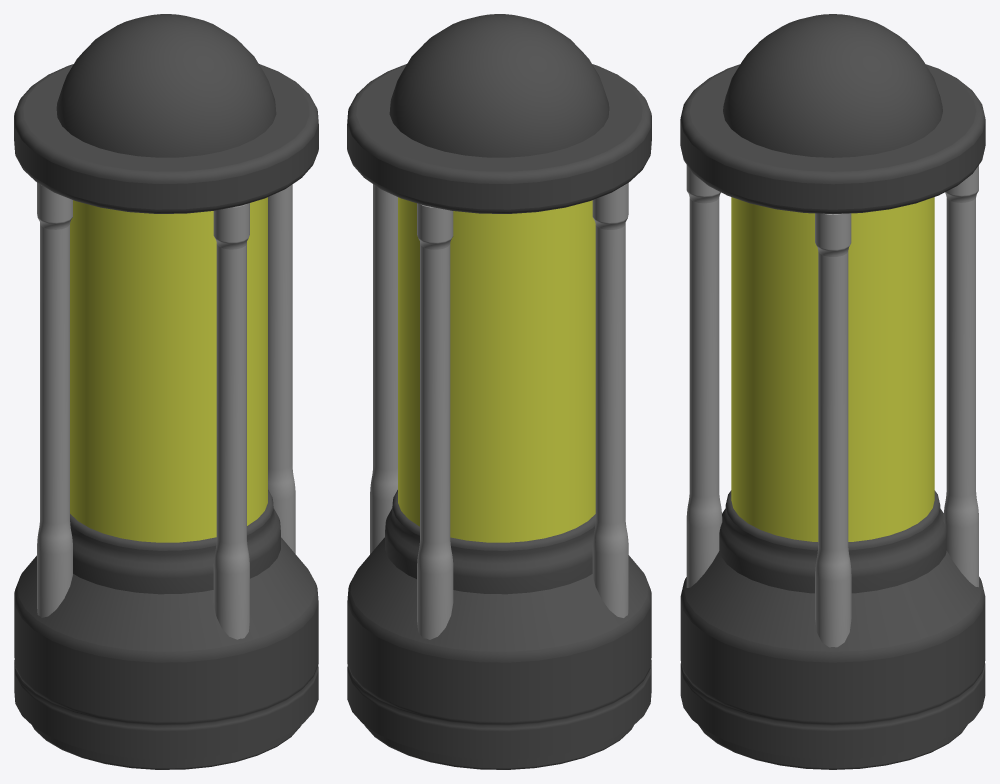
File: CellColored.fbx
3 views of the same model, side by side, from view 1: azimuth 30°, elevation 25°; view 2: azimuth 150°, elevation 25°; view 3: azimuth 270°, elevation 25° (orthographic).
Parts seen in each view (by area): view 1: Cylinder; view 2: Cylinder; view 3: Cylinder.
Boxes of the visible parts, <box> form: Cylinder: <box>14,14,318,769</box>; Cylinder: <box>347,14,651,769</box>; Cylinder: <box>680,14,985,769</box>.
Bounding box in the file's own units: 54 × 134 × 54.
